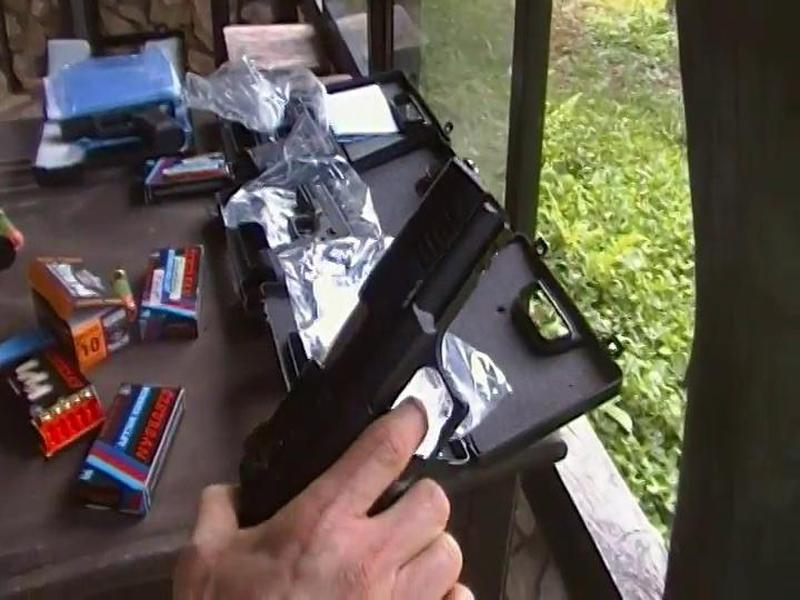Pistola: (203, 151, 561, 551)
